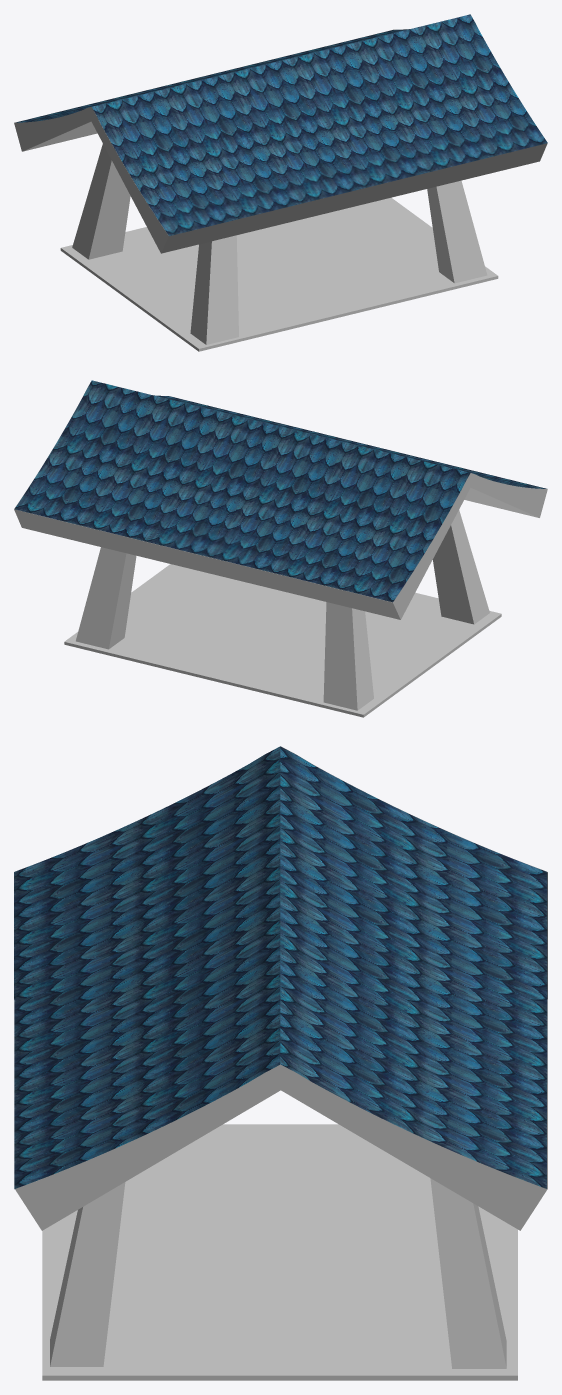
File: SatyrVillage_Build.fbx
3 renders of one model, top to bottom at view 1: azimuth 30°, elevation 25°; view 2: azimuth 150°, elevation 25°; view 3: azimuth 270°, elevation 25°, orthographic. The views are drawn at different scales.
Visible parts, largest first — view 1: Roof, Floor, Piillars, Roof_Side, Roof_Inside; view 2: Roof, Floor, Piillars, Roof_Side, Roof_Inside; view 3: Roof, Floor, Roof_Side, Piillars.
Boxes of the visible parts, bbox=[...] form: Roof: bbox=[16, 14, 547, 236]; Floor: bbox=[60, 197, 498, 351]; Piillars: bbox=[72, 144, 487, 344]; Roof_Side: bbox=[14, 29, 547, 253]; Roof_Inside: bbox=[23, 121, 135, 184]; Roof: bbox=[14, 380, 546, 602]; Floor: bbox=[64, 564, 501, 717]; Piillars: bbox=[76, 510, 489, 710]; Roof_Side: bbox=[14, 389, 547, 619]; Roof_Inside: bbox=[32, 488, 538, 602]; Roof: bbox=[14, 746, 547, 1189]; Floor: bbox=[42, 1124, 517, 1380]; Roof_Side: bbox=[15, 746, 547, 1230]; Piillars: bbox=[50, 1178, 506, 1368].
Bounding box in the file's own units: 2005 × 1029 × 1420.
